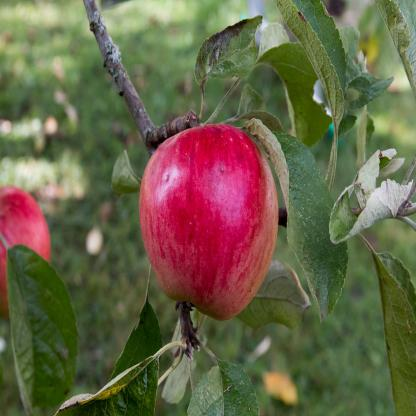--: (132, 109, 285, 320)
